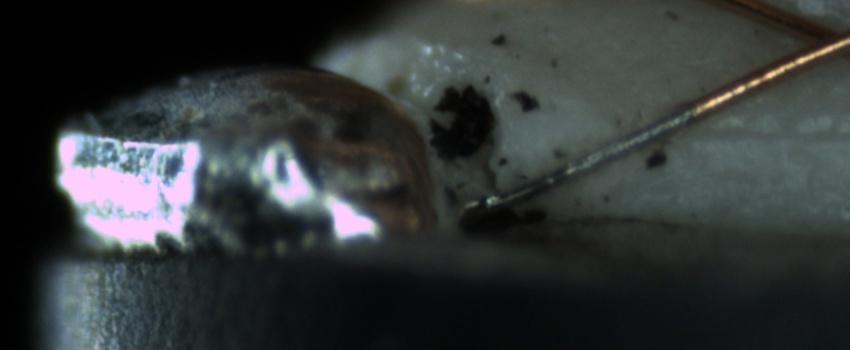CL: (773, 5, 850, 70)
DL: (648, 100, 850, 164)
TS: (461, 106, 696, 216)
